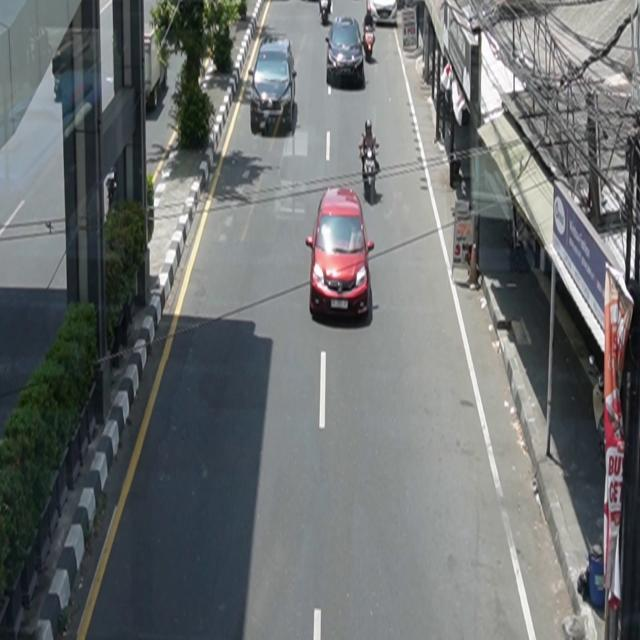car: (307, 186, 376, 321), (250, 34, 298, 137), (326, 15, 366, 89)
